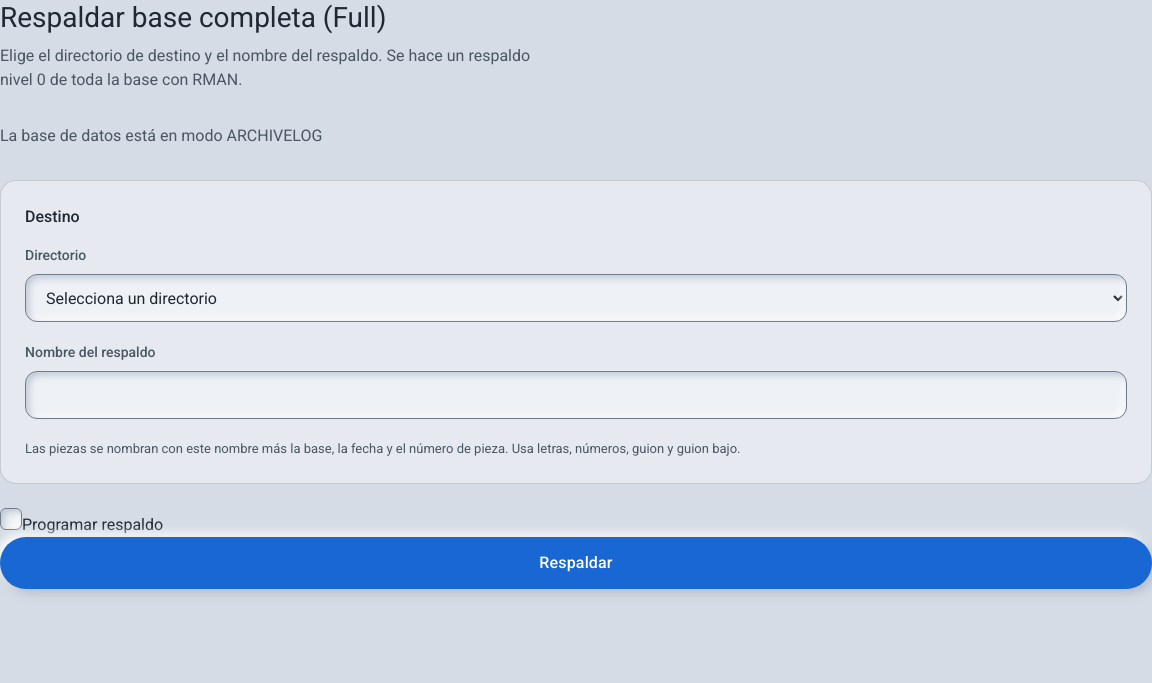
Test: pantalla de respaldo Full › si la limpieza falló informa el éxito y aparte la advertencia con su explicación y log
Select "RESPALDO (/opt/oracle/Respaldos)" in the dropdown labelled "Directorio" at [576, 298], box x1=25 y1=274 x2=1127 y2=322
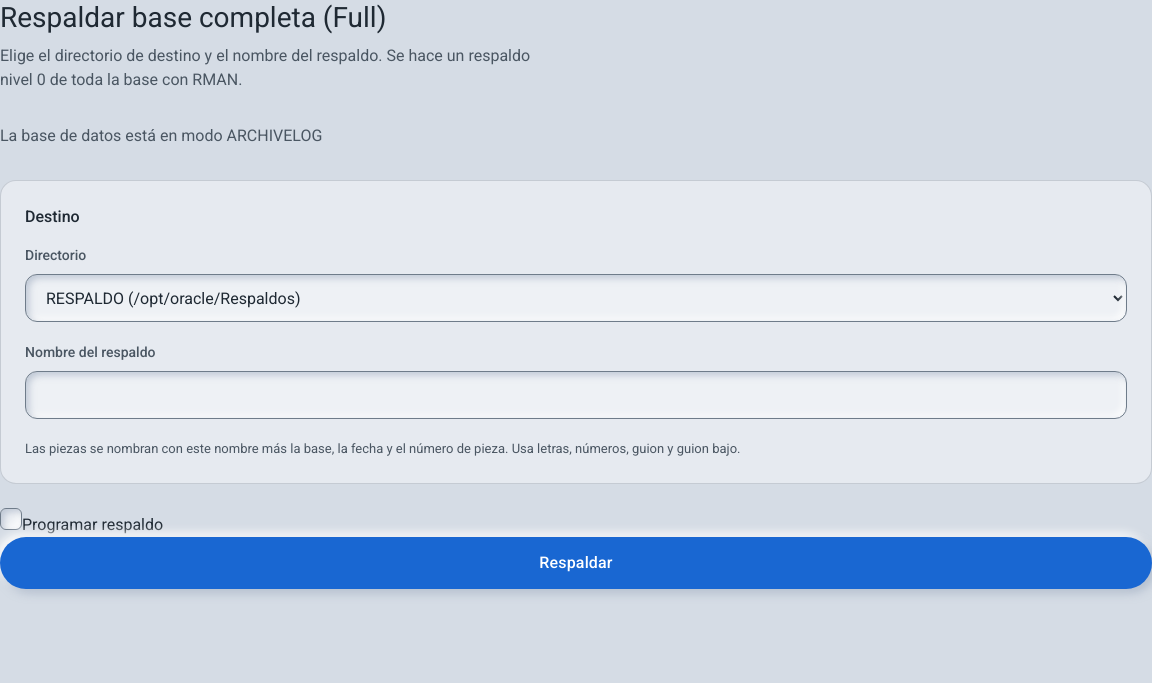
Type "semanal" into the field labelled "Nombre del respaldo" at [576, 395], box x1=25 y1=371 x2=1127 y2=419
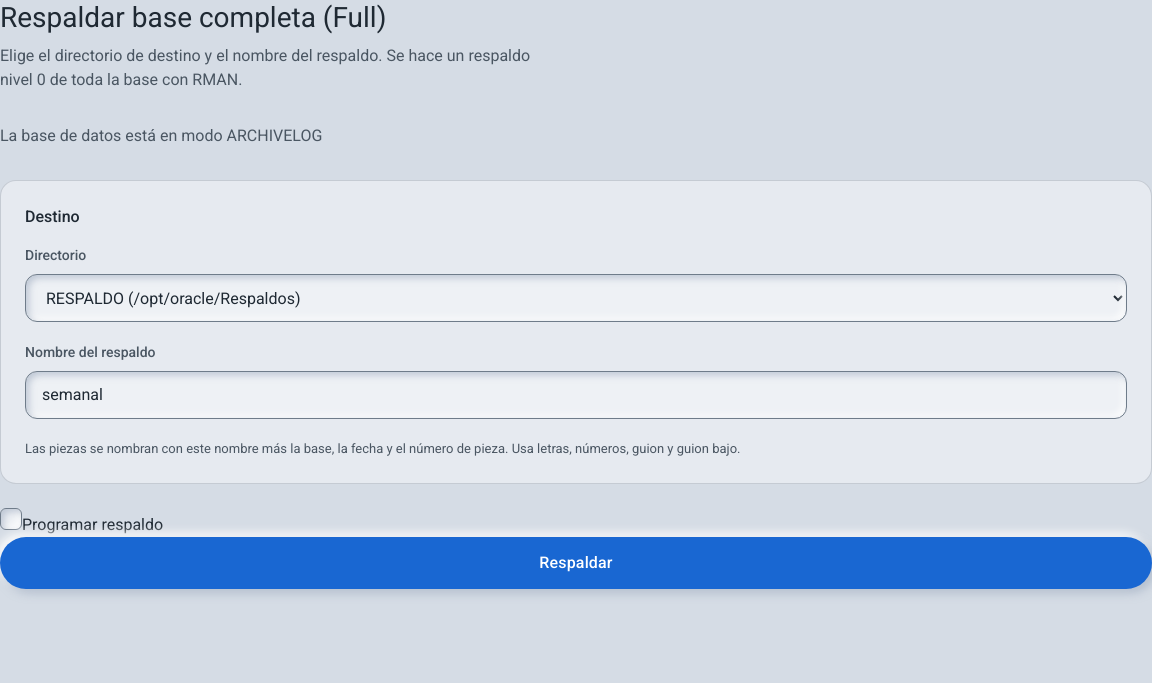
Click the button "Respaldar" at [576, 562], box x1=0 y1=536 x2=1151 y2=588
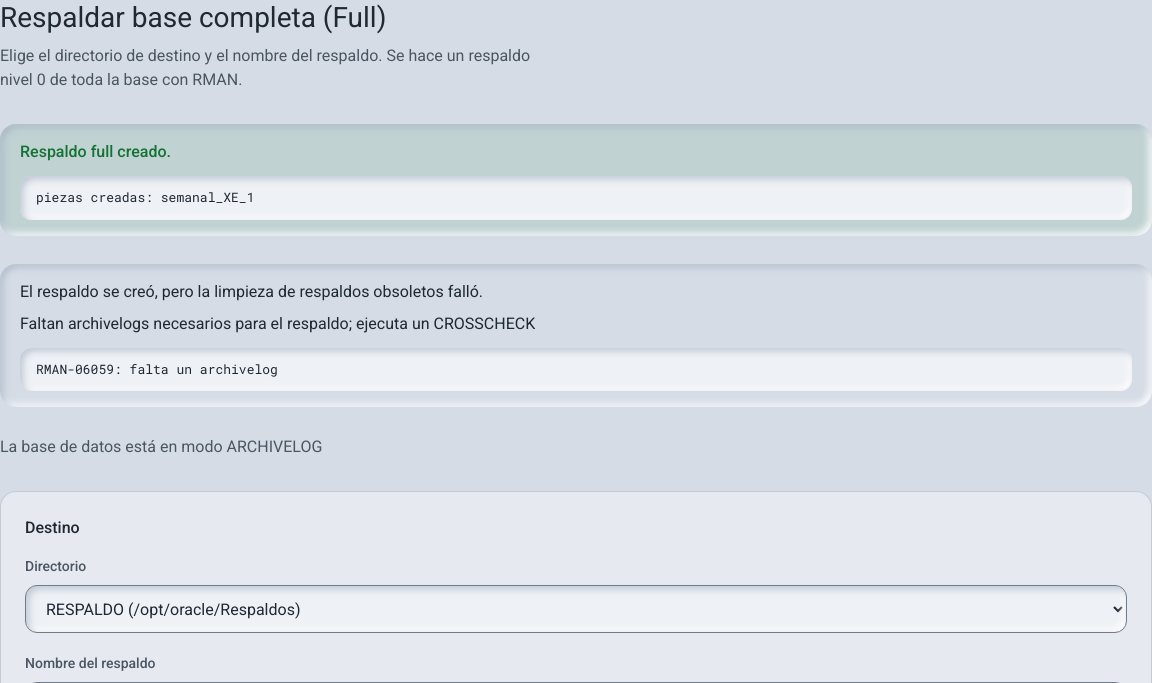
Now the message shows "Respaldo full creado", box x1=20 y1=142 x2=171 y2=161
Now the text "la limpieza de respaldos obsoletos falló" is shown, box x1=20 y1=282 x2=483 y2=300
Now the text "Faltan archivelogs necesarios" is shown, box x1=20 y1=314 x2=535 y2=332
